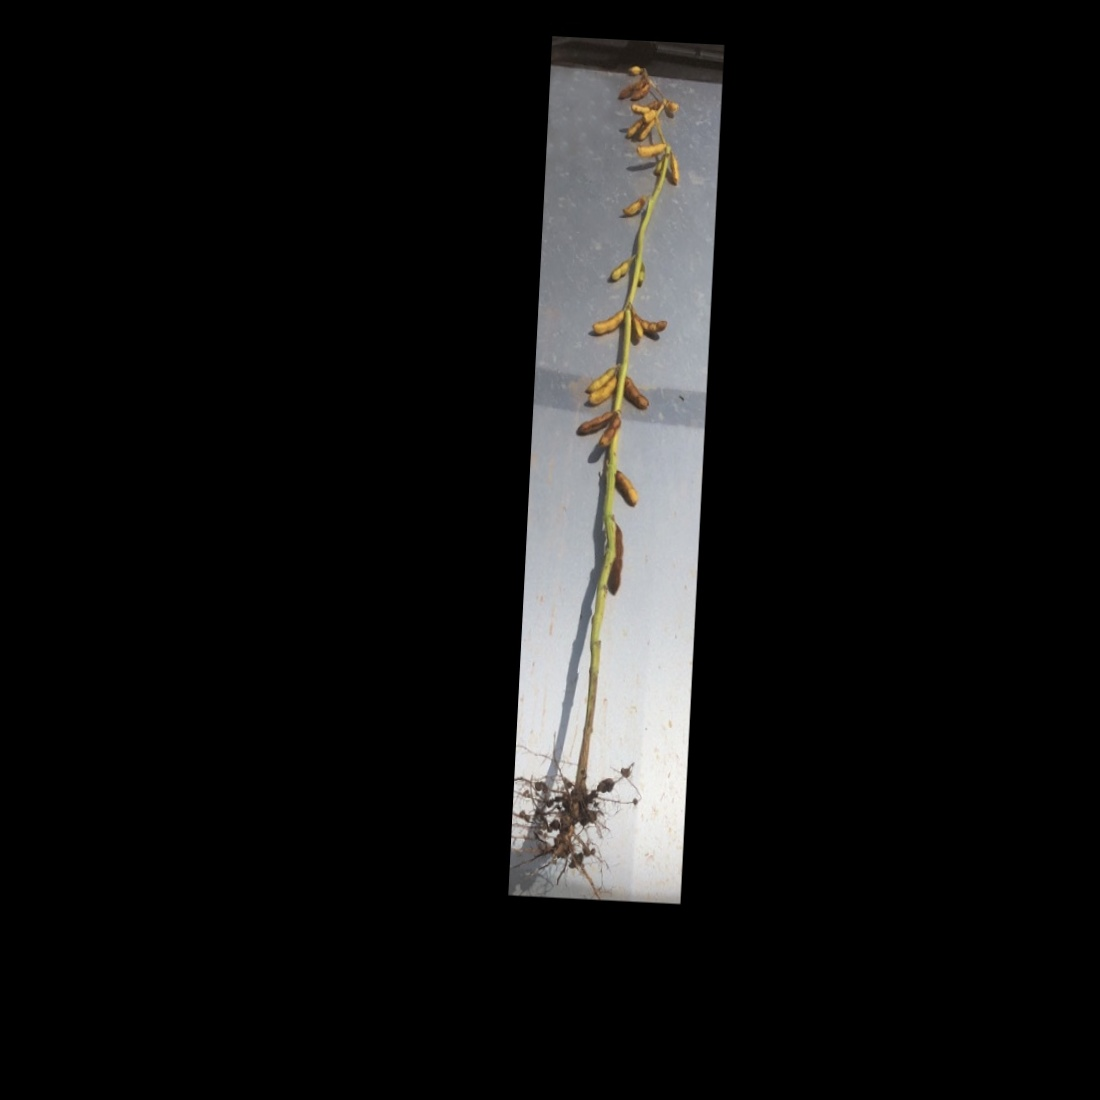pod: (604, 517, 627, 596), (569, 401, 614, 437), (618, 372, 653, 412), (590, 308, 627, 340), (610, 468, 639, 507), (598, 415, 625, 450), (633, 137, 665, 161), (605, 258, 633, 282), (620, 193, 648, 216), (667, 149, 682, 188), (661, 94, 683, 118), (627, 100, 651, 115), (624, 62, 643, 80), (637, 256, 647, 288)
soy: (520, 44, 710, 886)
